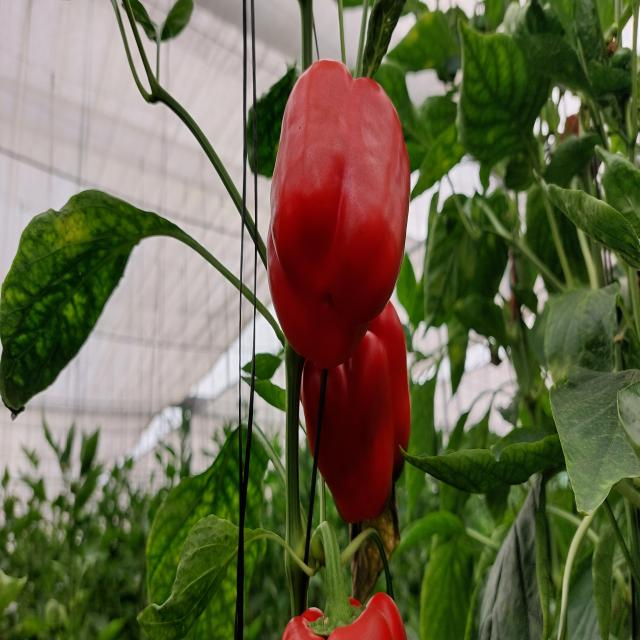Red-Ready-to-Harvest: (270, 74, 412, 361), (284, 337, 433, 536)
